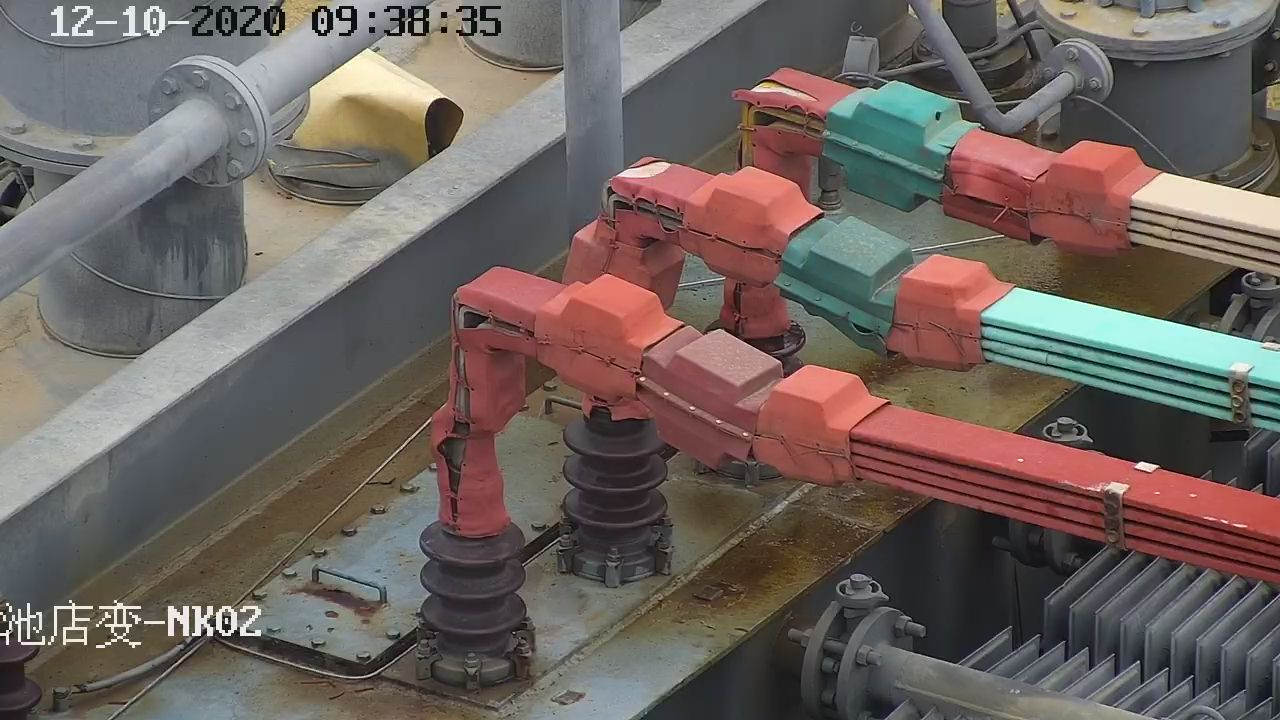cysb_tg: (415, 263, 886, 686), (560, 152, 1019, 374), (731, 63, 1150, 258)
sly_bjbmyw: (1, 1, 1257, 720)
